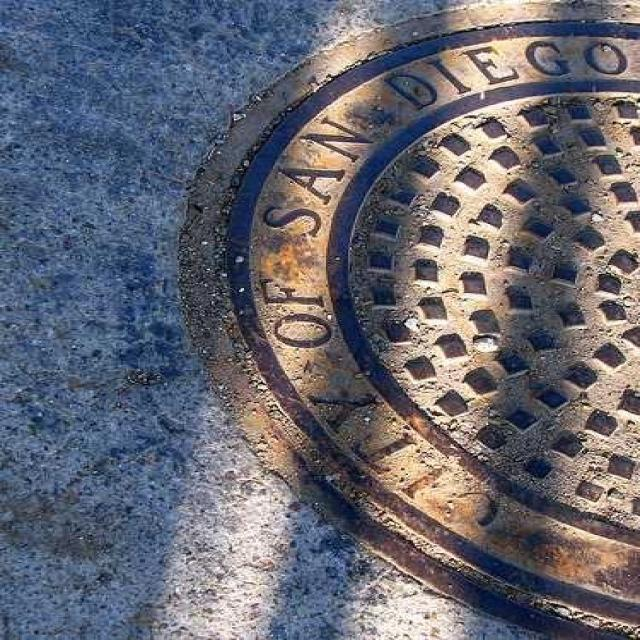manhole: (188, 2, 640, 640)
